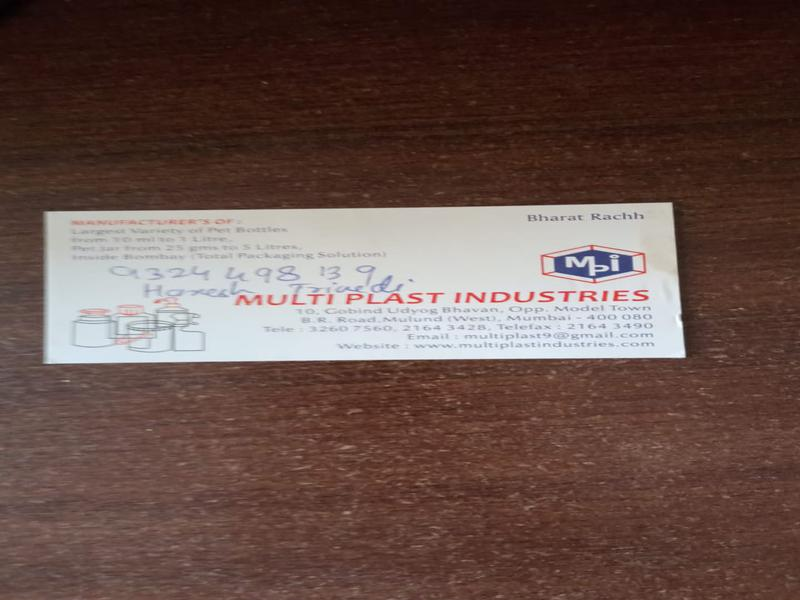card: (44, 203, 682, 359)
